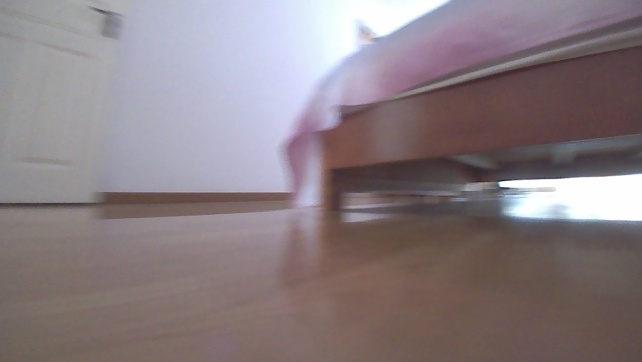bed1: (274, 0, 641, 214)
